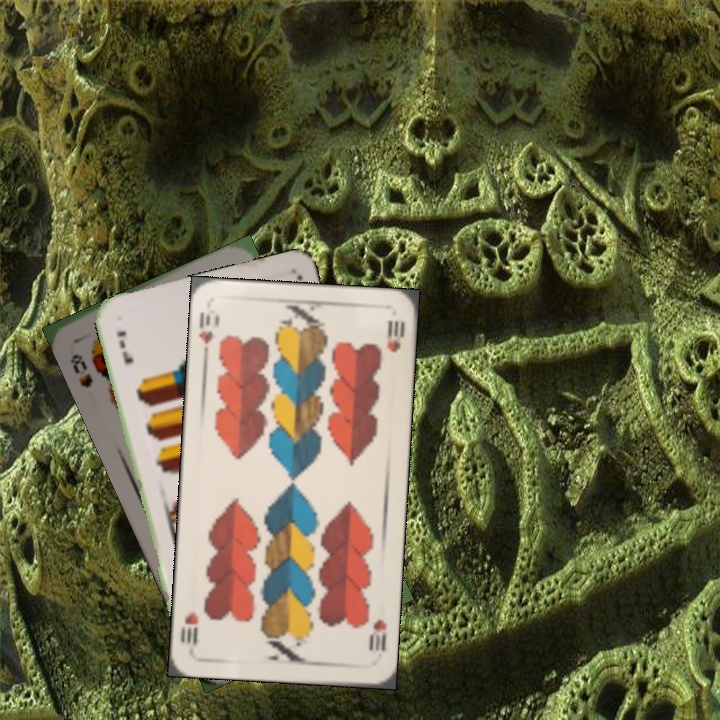E7: (113, 326, 136, 367)
H10: (195, 308, 222, 361), (365, 615, 390, 654)
S8: (66, 349, 95, 391)
